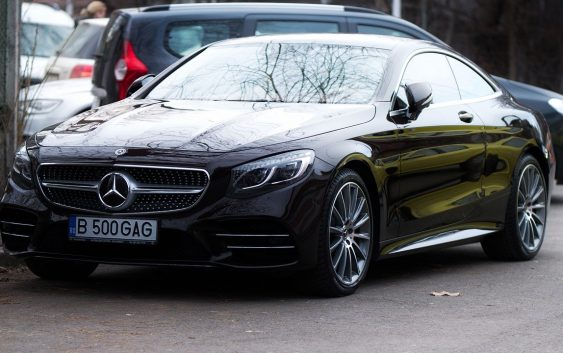number_plate: (69, 216, 156, 243)
